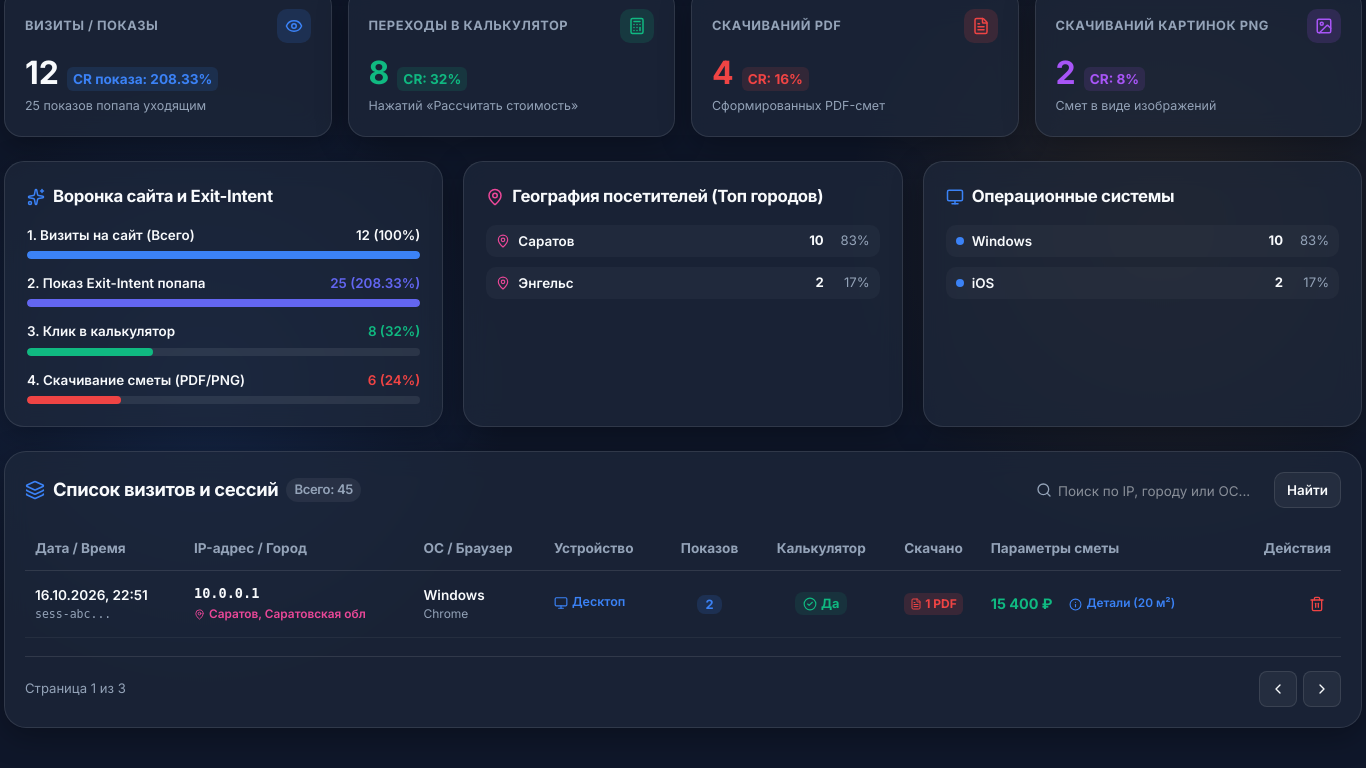
Test case: ExitIntentStats Component › stays on the next page instead of jumping back to the first one
(page scrolled)
Click the 5th button at point(1322, 689), box [1303, 671, 1341, 707]
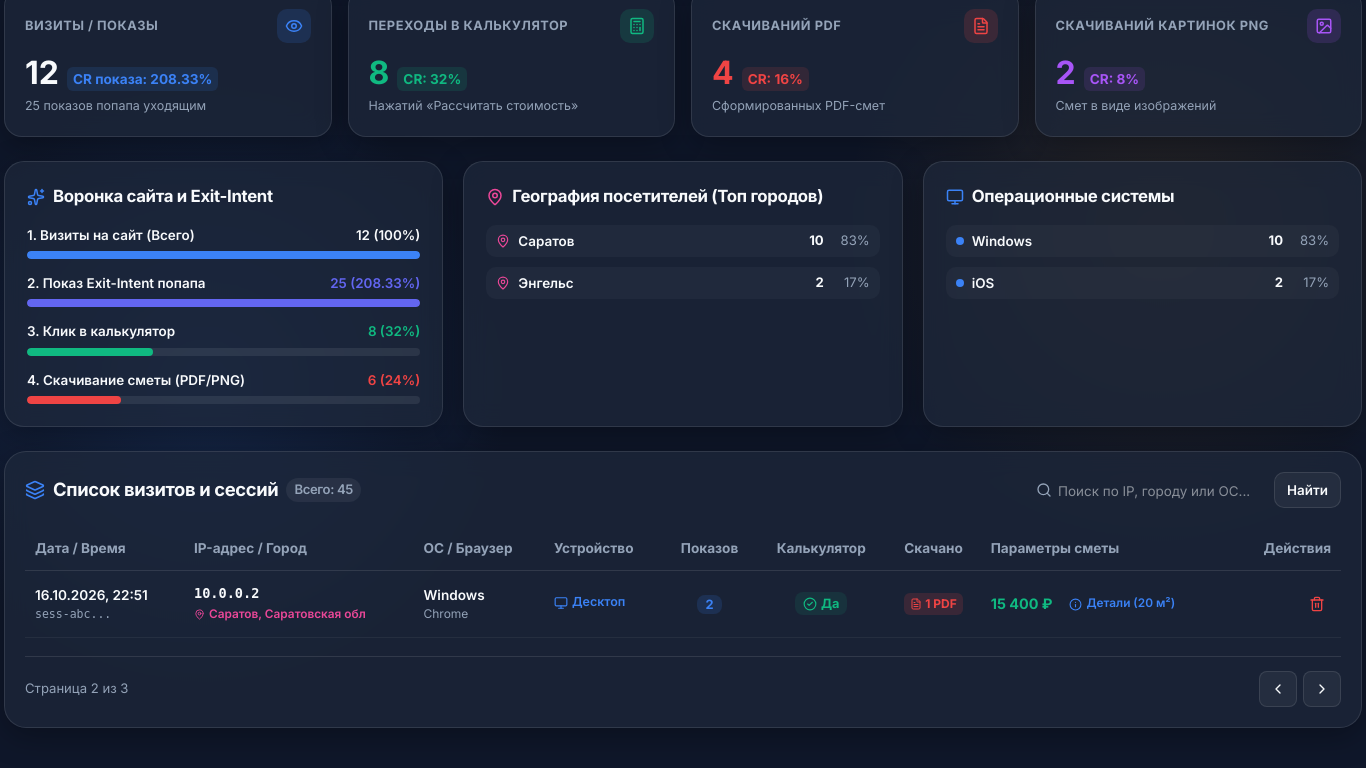
Expected: the text "Страница 2 из 3" is shown, [25, 679, 128, 699]
Expected: the text "10.0.0.2" is shown, [194, 585, 260, 601]
